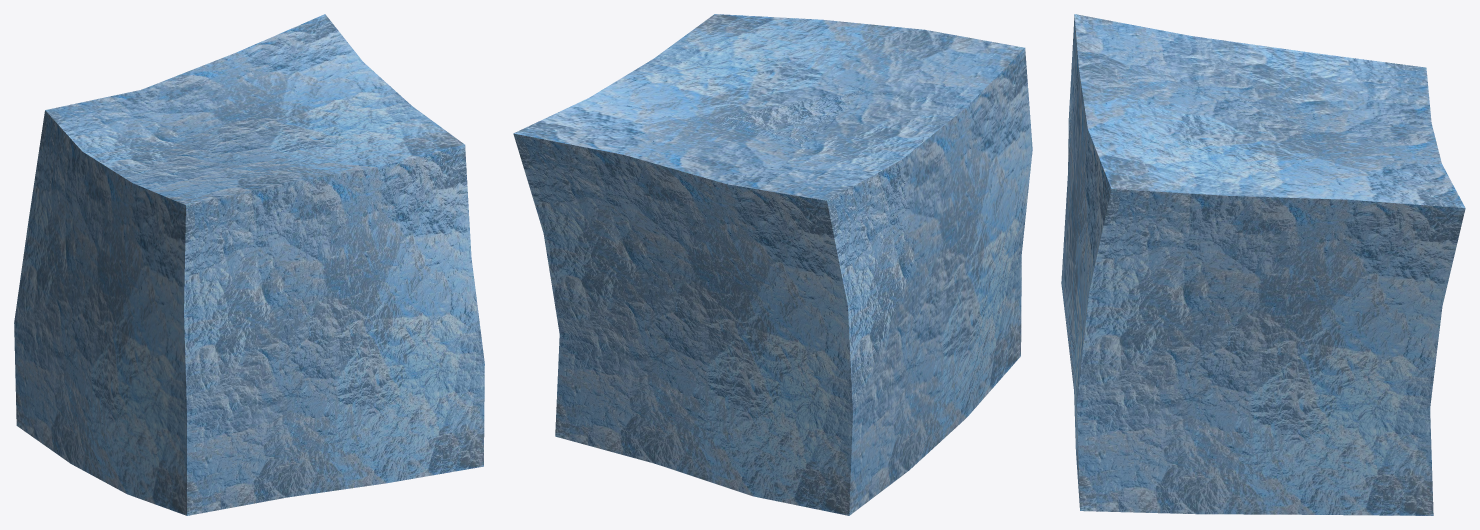
The model's file is ice_02_coll.FBX.
The picture shows the model from 3 angles, left to right: view 1: azimuth 30°, elevation 25°; view 2: azimuth 150°, elevation 25°; view 3: azimuth 270°, elevation 25°; orthographic projection. The views are drawn at different scales.
Visible parts, largest first — view 1: ice_02_coll; view 2: ice_02_coll; view 3: ice_02_coll.
Part boxes in pixels (left/top/right/bottom): ice_02_coll: left=14, top=14, right=484, bottom=515; ice_02_coll: left=513, top=14, right=1032, bottom=515; ice_02_coll: left=1061, top=14, right=1465, bottom=515.
Bounding box in the file's own units: 28.58 × 28.48 × 28.57.
